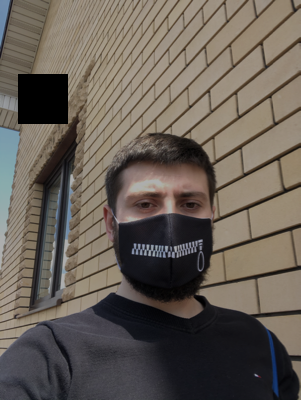with_mask: (113, 178, 218, 302)
